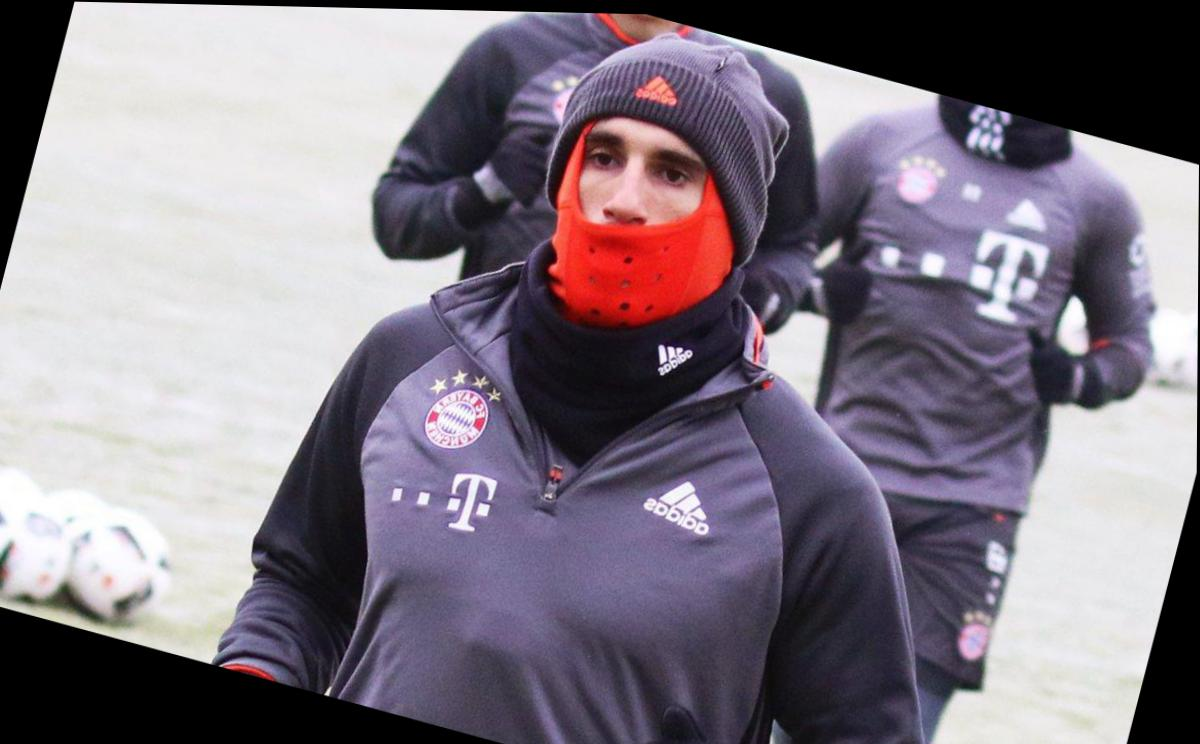WRONG: (533, 93, 750, 341)
